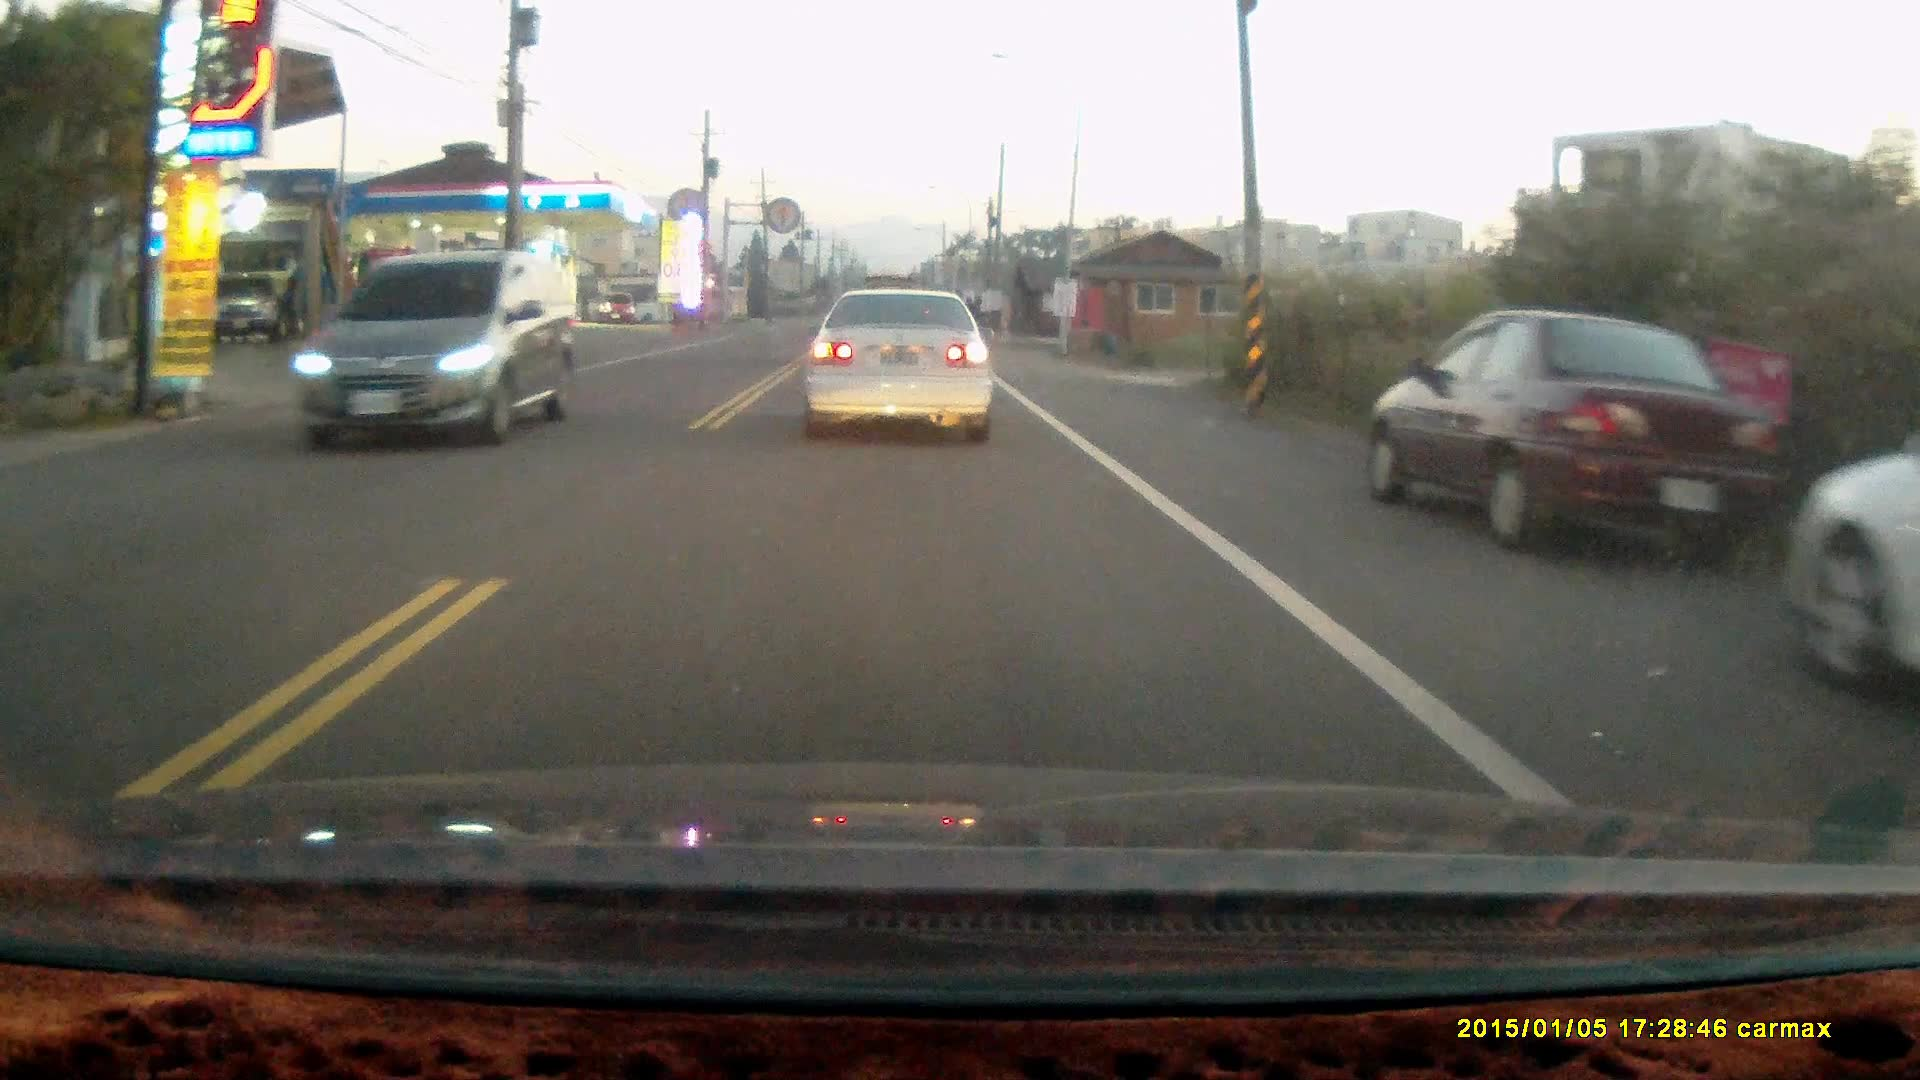vehicle: (1366, 307, 1792, 554), (297, 255, 578, 444), (1785, 448, 1920, 700), (796, 284, 996, 444)
